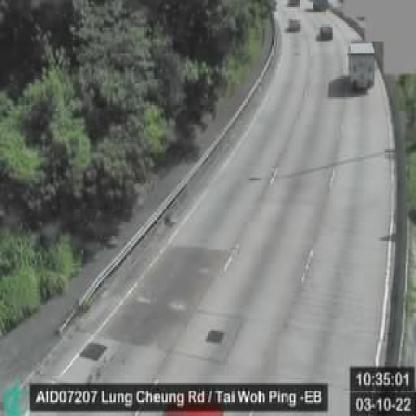Truck: (349, 40, 373, 95)
